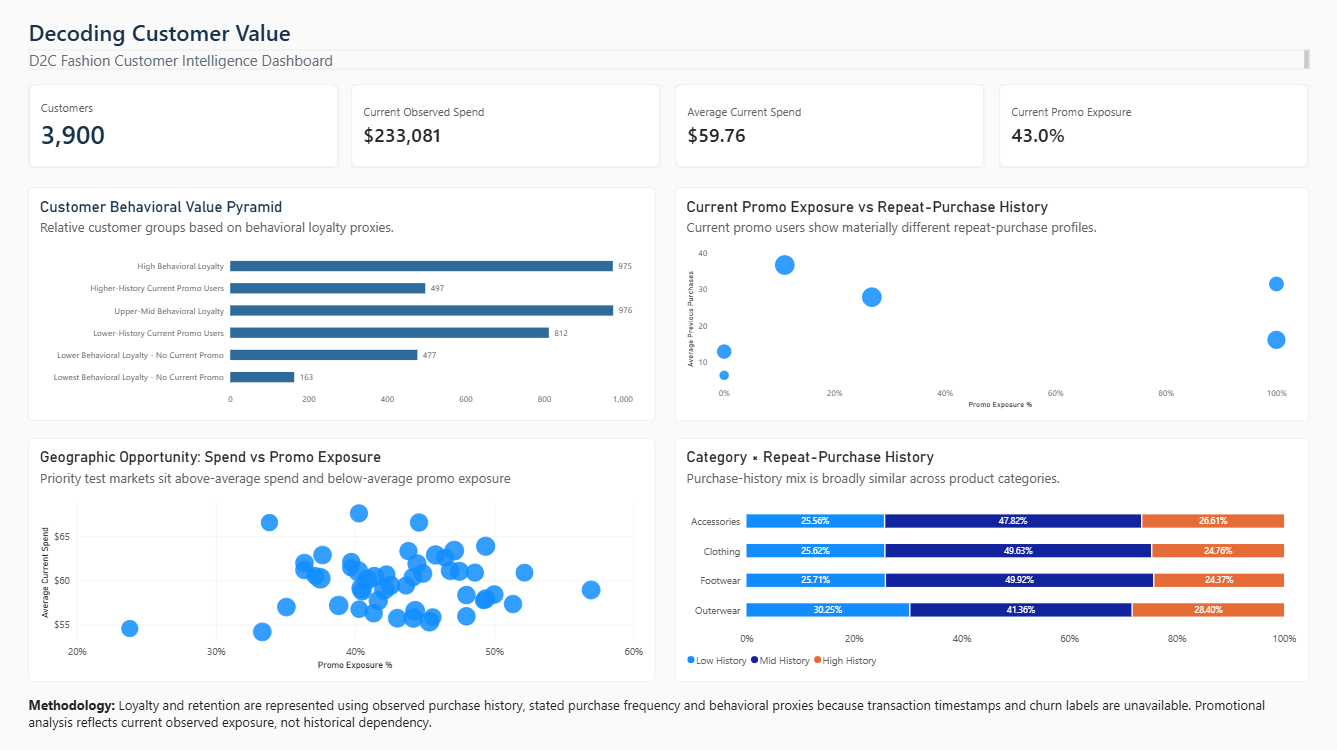

The dashboard page shown, as its layout file describes it:
{"tool":"powerbi","page":{"name":"Founder Dashboard","canvas":[1920,1080],"ordinal":0},"visuals":[{"type":"cardVisual","fields":{"Data":["Customers.Customers Count"]},"box":[40,120,445,120],"z":0},{"type":"cardVisual","fields":{"Data":["Customers.Current Observed Spend"]},"box":[505,120,445,120],"z":1000},{"type":"cardVisual","fields":{"Data":["Customers.Average Current Spend"]},"box":[970,120,445,120],"z":2000},{"type":"cardVisual","fields":{"Data":["Customers.Promo Exposure %"]},"box":[1435,120,445,120],"z":3000},{"type":"clusteredBarChart","title":"Customer Behavioral Value Pyramid","fields":{"Category":["Customers.Display Segment"],"Y":["Customers.Customers Count"]},"box":[40,270,900,335],"z":4000},{"type":"textbox","box":[40,24,1840,48],"z":5000},{"type":"textbox","box":[40,72,1840,28],"z":6000},{"type":"scatterChart","title":"Current Promo Exposure vs Repeat-Purchase History","fields":{"Category":["Customers.Display Segment"],"Size":["Customers.Customers Count"],"X":["Customers.Promo Exposure %"],"Y":["Customers.Average Previous Purchases"]},"box":[970,270,910,335],"z":7000},{"type":"hundredPercentStackedBarChart","title":"Category × Repeat-Purchase History","fields":{"Category":["Customers.category"],"Series":["Customers.Purchase History Band"],"Y":["Customers.Customers Count"]},"box":[970,630,910,350],"z":9000},{"type":"textbox","box":[40,1000,1840,54],"z":10000},{"type":"scatterChart","title":"Geographic Opportunity: Spend vs Promo Exposure","fields":{"Category":["Customers.location"],"Size":["Customers.Customers Count"],"X":["Customers.Promo Exposure %"],"Y":["Customers.Average Current Spend"]},"box":[40,630,900,350],"z":10001}]}

Visuals, with their boxes in screenshot pixels (x1, y1, x2, y2), scaled from the page's 1920x1080 canvas onto the 1337x750 screenshot:
cardVisual - Customers.Customers Count: bbox=[28, 83, 338, 167]
cardVisual - Customers.Current Observed Spend: bbox=[352, 83, 662, 167]
cardVisual - Customers.Average Current Spend: bbox=[675, 83, 985, 167]
cardVisual - Customers.Promo Exposure %: bbox=[999, 83, 1309, 167]
"Customer Behavioral Value Pyramid" clusteredBarChart: bbox=[28, 188, 655, 420]
textbox: bbox=[28, 17, 1309, 50]
textbox: bbox=[28, 50, 1309, 69]
"Current Promo Exposure vs Repeat-Purchase History" scatterChart: bbox=[675, 188, 1309, 420]
"Category × Repeat-Purchase History" hundredPercentStackedBarChart: bbox=[675, 438, 1309, 681]
textbox: bbox=[28, 694, 1309, 732]
"Geographic Opportunity: Spend vs Promo Exposure" scatterChart: bbox=[28, 438, 655, 681]
